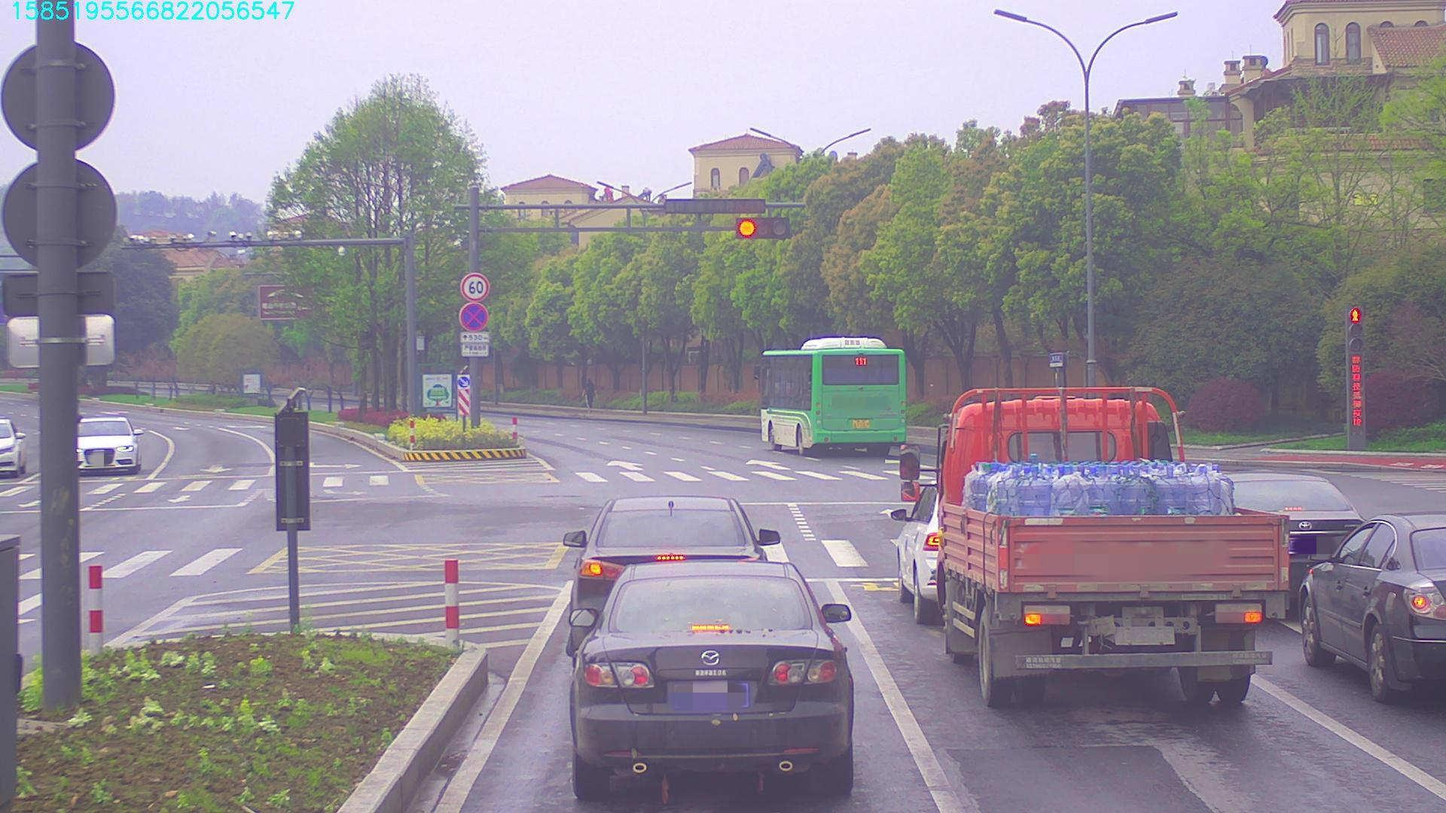red: (740, 215, 790, 242)
